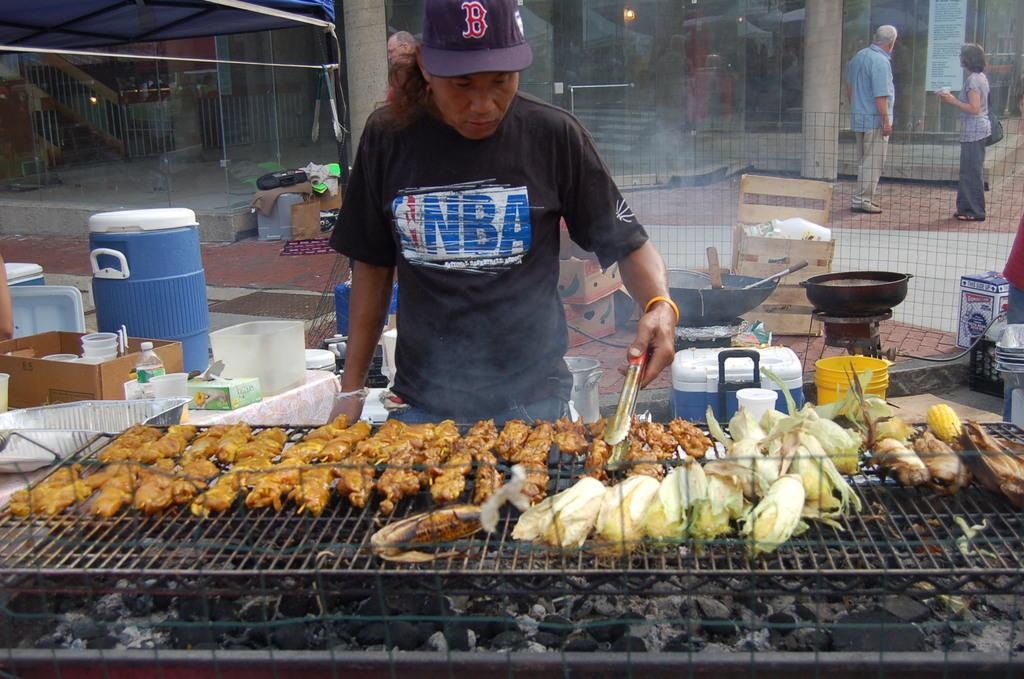Hat: (420, 0, 535, 79)
